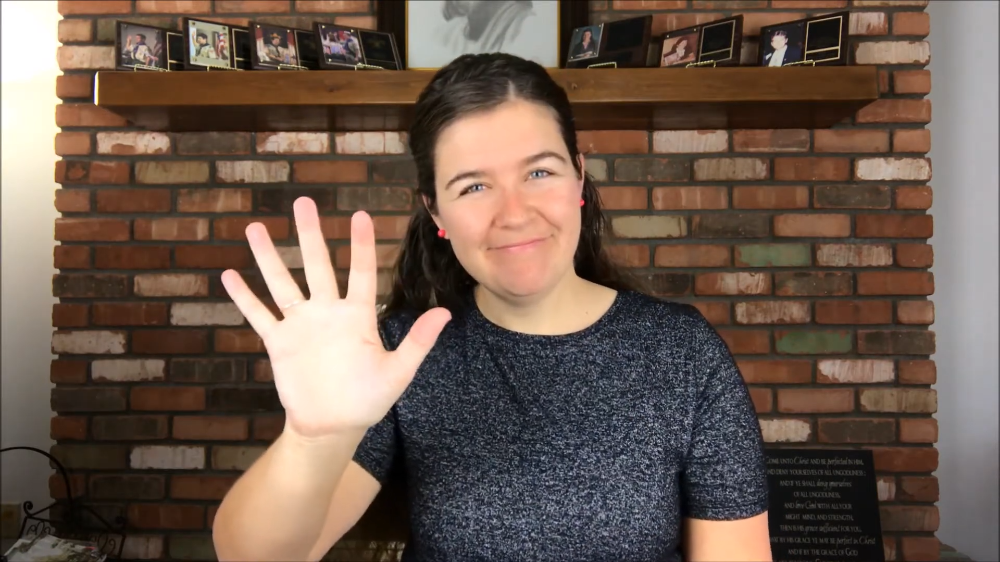hello: (219, 191, 452, 436)
